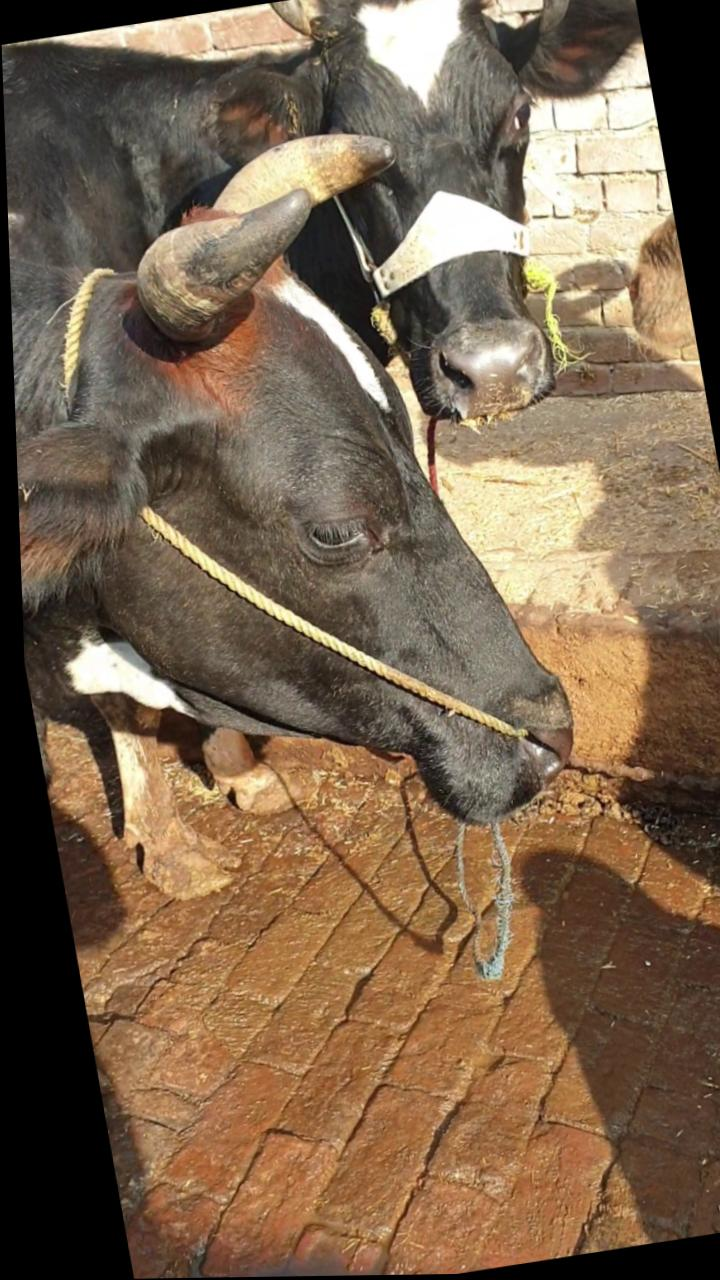cows: (98, 159, 581, 907), (303, 0, 595, 429)
